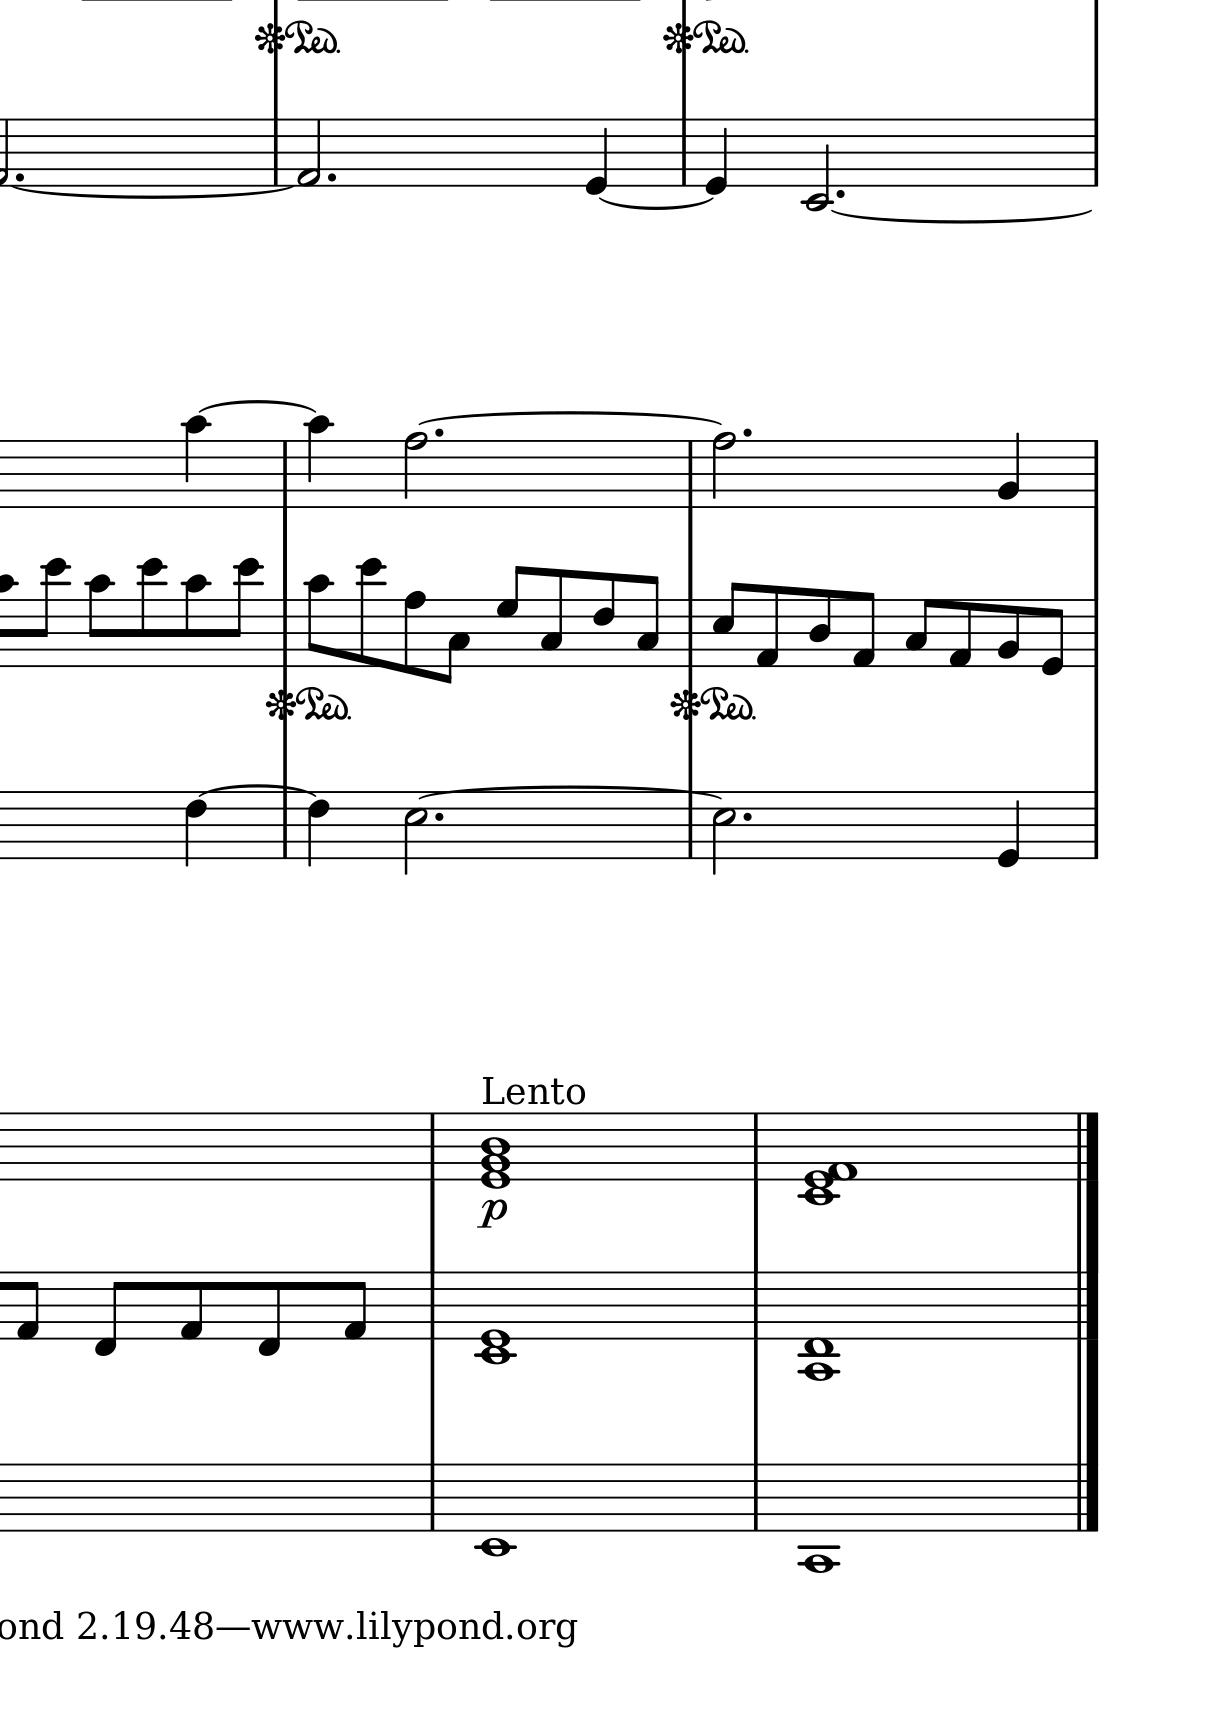1_-2: (478, 1463, 512, 1561)
1_-2_0: (475, 1270, 519, 1365)
1_-4: (799, 1463, 838, 1576)
1_-4_-1: (799, 1270, 843, 1383)
1_th: (794, 1111, 864, 1204), (477, 1107, 512, 1190)
2_-2: (802, 116, 831, 211)
2_1: (294, 117, 322, 189)
2_5: (400, 790, 427, 877), (710, 790, 736, 876)
2_8: (709, 429, 736, 511), (400, 429, 428, 509)
4_0: (582, 117, 609, 198), (994, 789, 1021, 870), (704, 117, 729, 197)
4_10: (305, 415, 332, 509), (182, 415, 209, 509)
4_2: (996, 431, 1023, 509)
4_6: (182, 789, 207, 868), (305, 790, 330, 868)
8_-1: (89, 1270, 126, 1359), (253, 1270, 282, 1360)
8_0: (1038, 597, 1066, 677)
8_1: (754, 583, 781, 670), (849, 590, 876, 670), (947, 597, 973, 670), (177, 1270, 203, 1342), (341, 1270, 368, 1342), (14, 1270, 39, 1343)
8_10: (83, 575, 116, 668), (180, 575, 211, 668), (305, 572, 331, 668)
8_12: (32, 557, 68, 670), (226, 555, 260, 670), (356, 555, 385, 670), (138, 555, 165, 670)
8_2: (995, 597, 1020, 670)
8_3: (438, 597, 471, 685), (537, 567, 564, 670), (634, 572, 660, 670), (903, 597, 933, 668)
8_4: (806, 587, 832, 670)
8_5: (709, 580, 740, 668)
8_6: (589, 571, 616, 670)
8_7: (494, 565, 524, 670)
8_8: (400, 590, 427, 677)
Final_barline: (1070, 1271, 1101, 1339), (1071, 1112, 1101, 1179), (1070, 1463, 1099, 1531)
Single_barline: (744, 1274, 767, 1339), (746, 1113, 765, 1180), (276, 793, 295, 859), (421, 1464, 441, 1530), (1084, 119, 1103, 186), (276, 441, 294, 508), (423, 1113, 441, 1180), (746, 1464, 764, 1531), (423, 1274, 441, 1339), (681, 599, 698, 668), (266, 119, 284, 186), (675, 119, 692, 186), (683, 441, 700, 508), (1086, 600, 1103, 667), (1086, 792, 1103, 859), (277, 599, 293, 670), (681, 800, 700, 859), (1087, 441, 1103, 507)
Slur: (416, 410, 733, 424), (417, 785, 727, 800), (11, 185, 298, 200), (832, 210, 1094, 225), (197, 783, 314, 800), (196, 399, 315, 415), (599, 194, 717, 210)
dot: (739, 809, 754, 826), (431, 810, 445, 825), (834, 186, 847, 202), (740, 425, 754, 441), (432, 425, 444, 441), (13, 169, 25, 182), (326, 171, 337, 184)
p: (477, 1197, 507, 1232)
